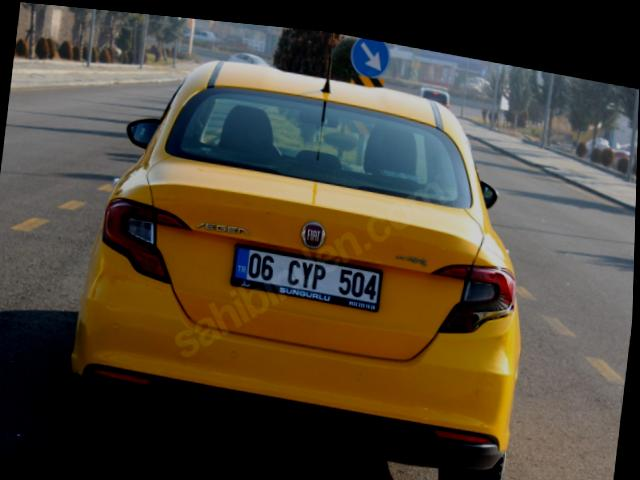plaka: (231, 246, 382, 310)
